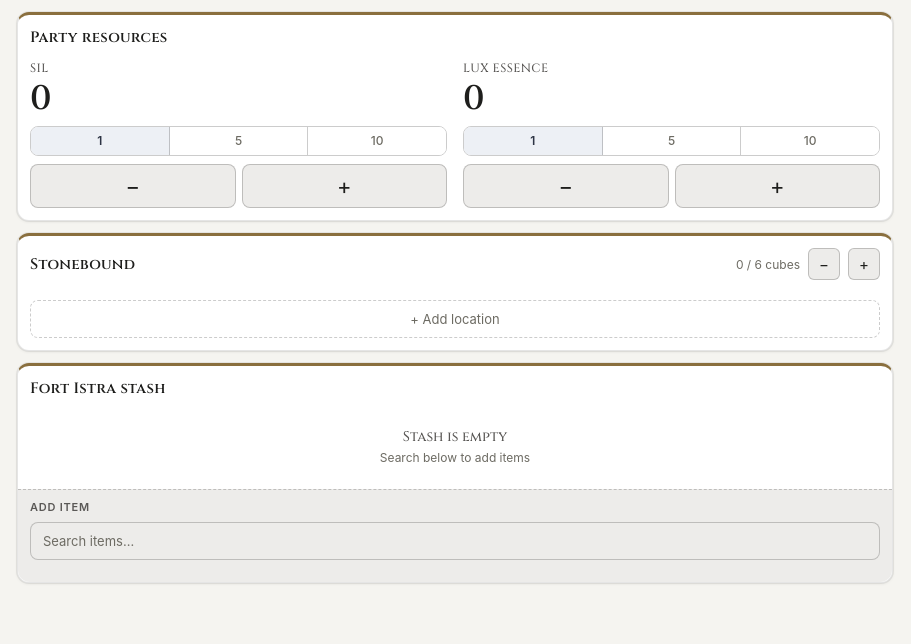
Test case: stash add search — no matches › offers an unknown string as a custom item
Type "Bag of Holding" into the field with class "stash-search".
click(455, 541); type("Bag of Holding")  # box [30,522,880,560]
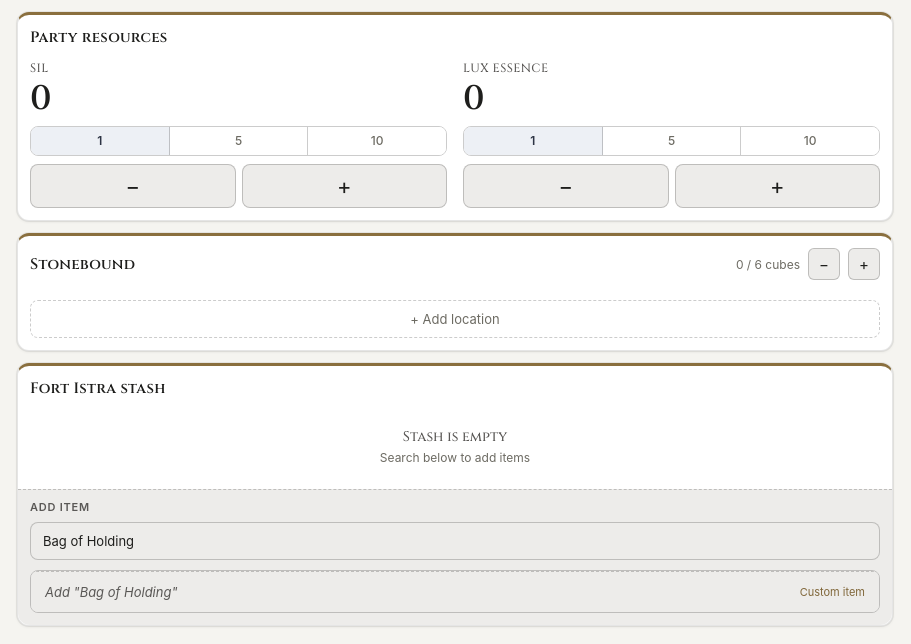
Check: the button with class "stash-add-result--custom" shows "Bag of Holding", box [31,571,879,612]
